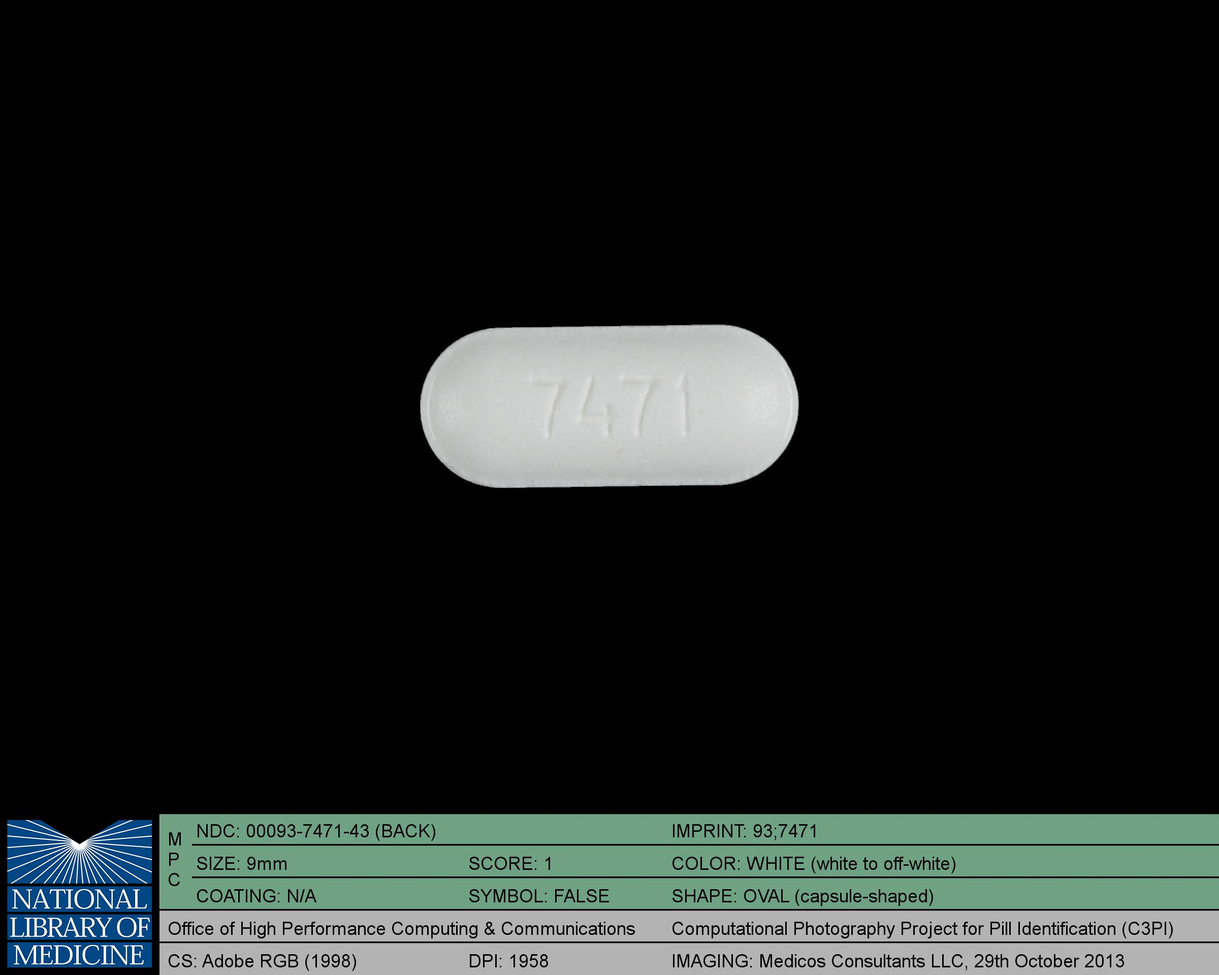Pill: (410, 311, 808, 496)
